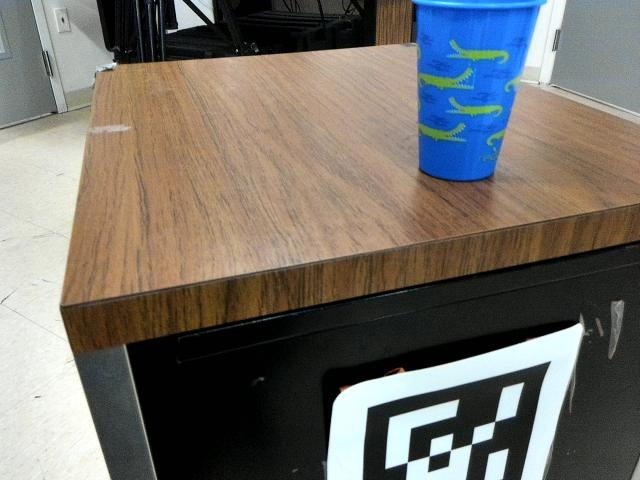water_cup: (397, 1, 547, 193)
